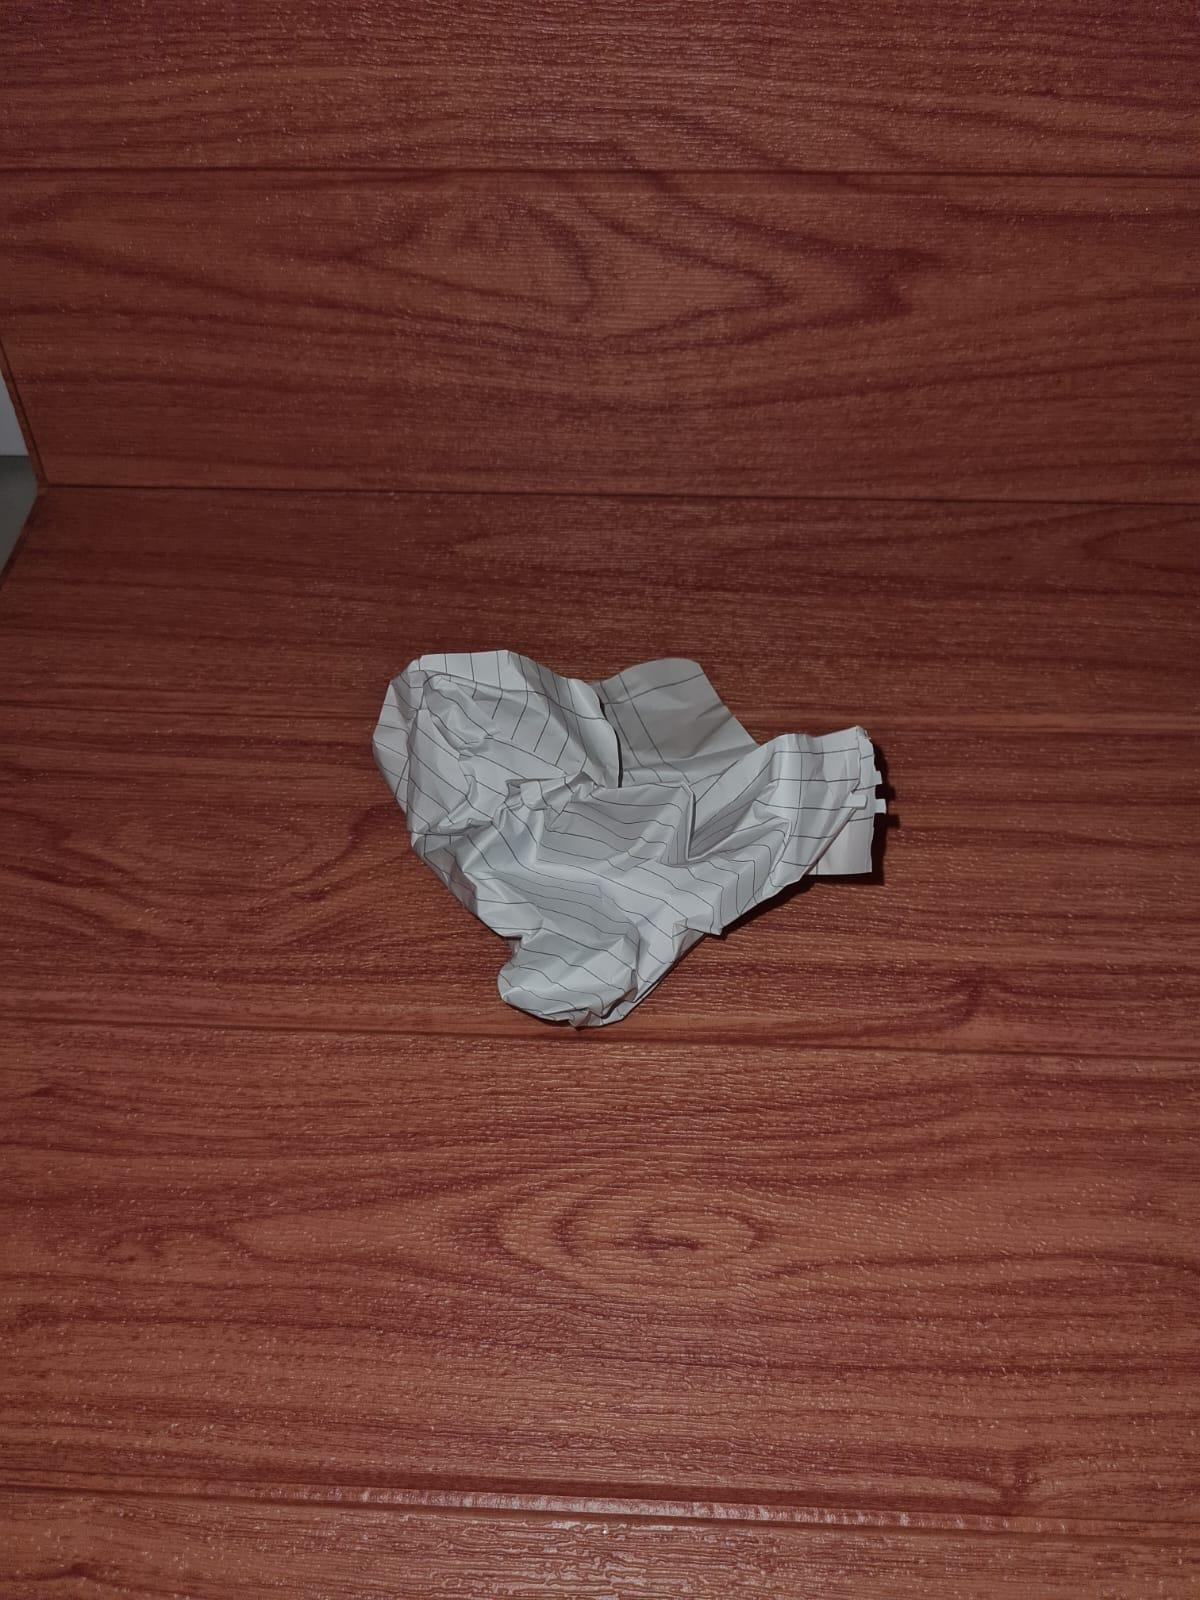Paper: (377, 634, 888, 1027)
